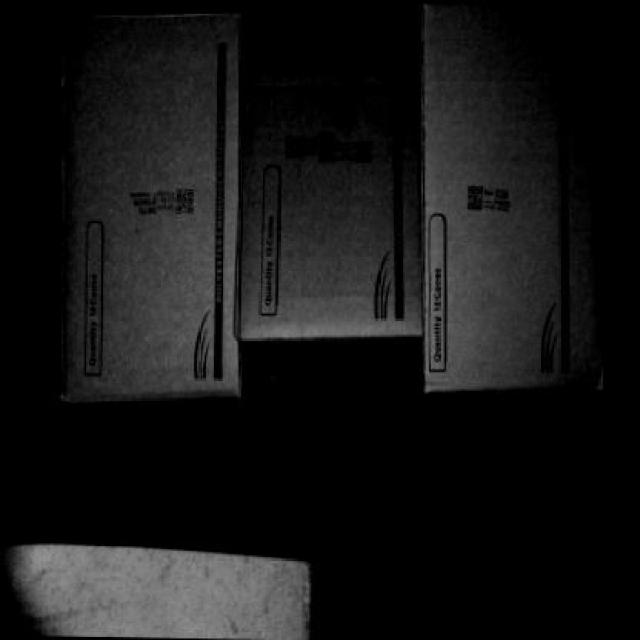cardboxes: (60, 17, 245, 392), (422, 14, 603, 394), (239, 8, 426, 332)
